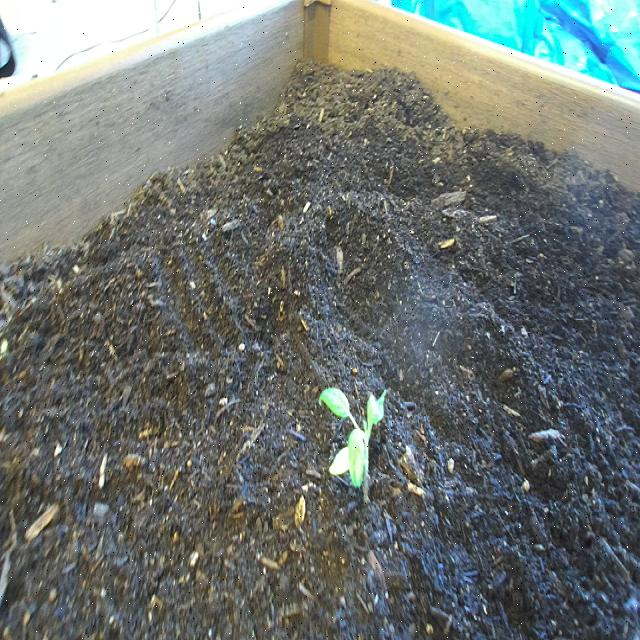Healthy: (318, 383, 391, 512)
